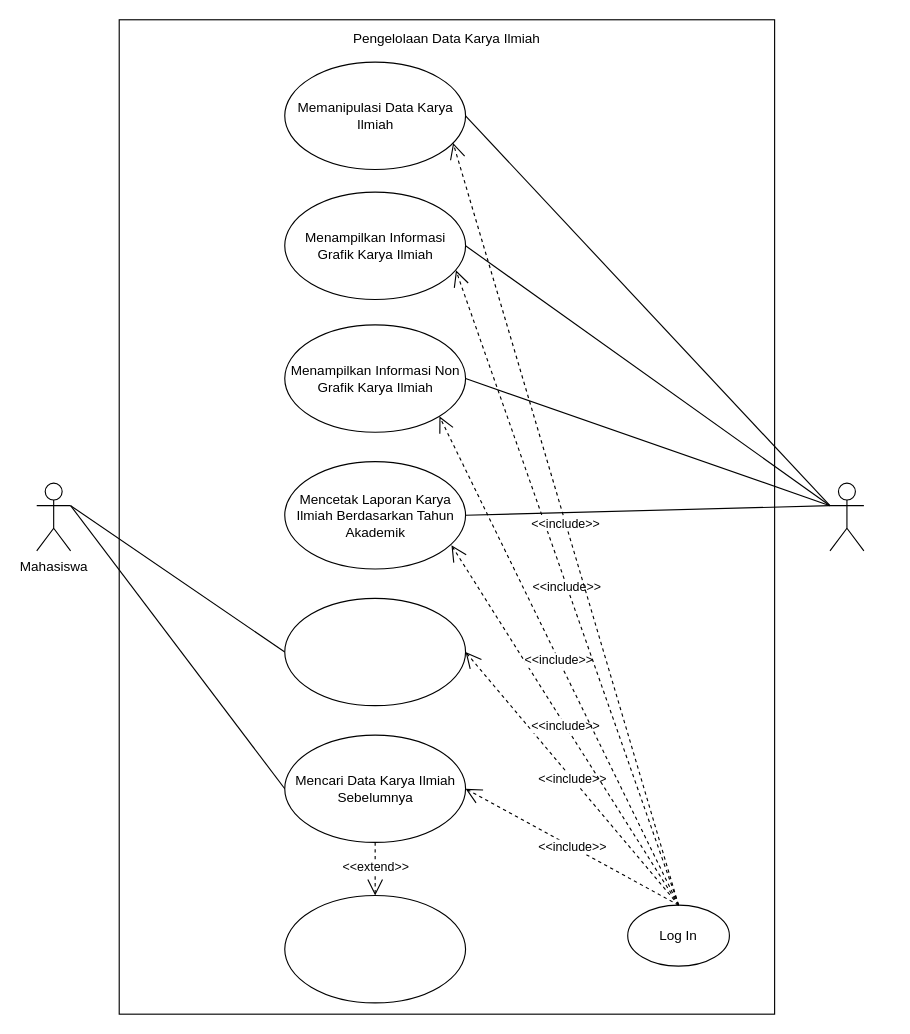
Image size: 910x1034. Some labels were removed from this diagram. Each missing label, with the centre of its shape:
"Melihat Ringkasan Data Karya Ilmiah" goes at (375,948).
"Mencari Data Dosen Pembimbing" goes at (375,651).
"Program Studi" goes at (846,516).
